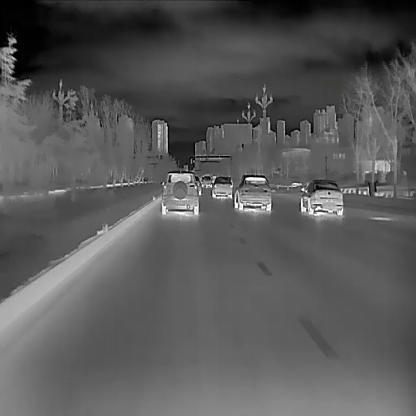car: (160, 169, 199, 214), (299, 179, 343, 215), (234, 173, 271, 211), (212, 175, 232, 197), (195, 175, 202, 194), (202, 175, 212, 186)
